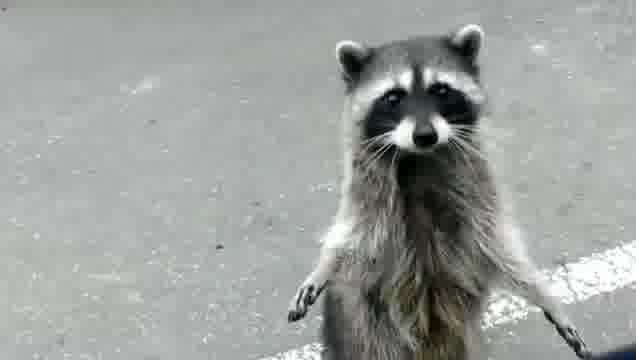raccoon: (286, 21, 593, 360)
